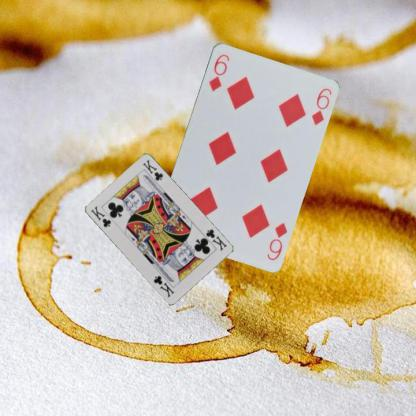6d: (264, 219, 288, 262), (206, 51, 230, 92)
Kc: (202, 226, 228, 252), (88, 203, 112, 229)
